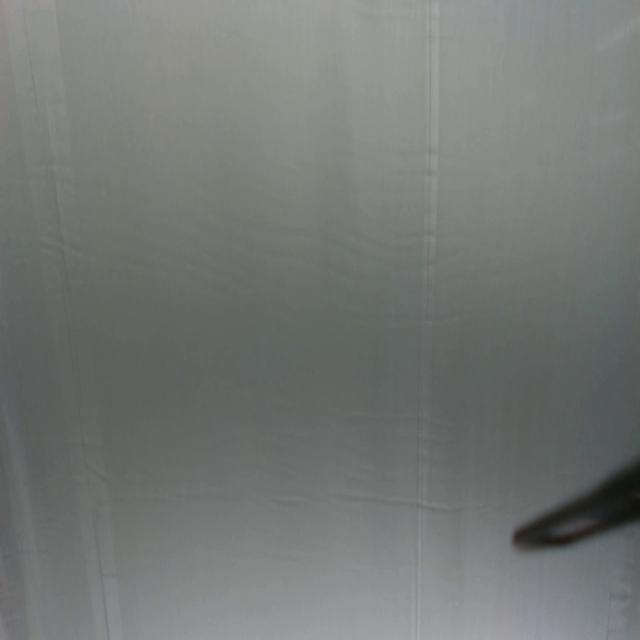crease: (4, 2, 122, 640), (411, 0, 440, 639)
